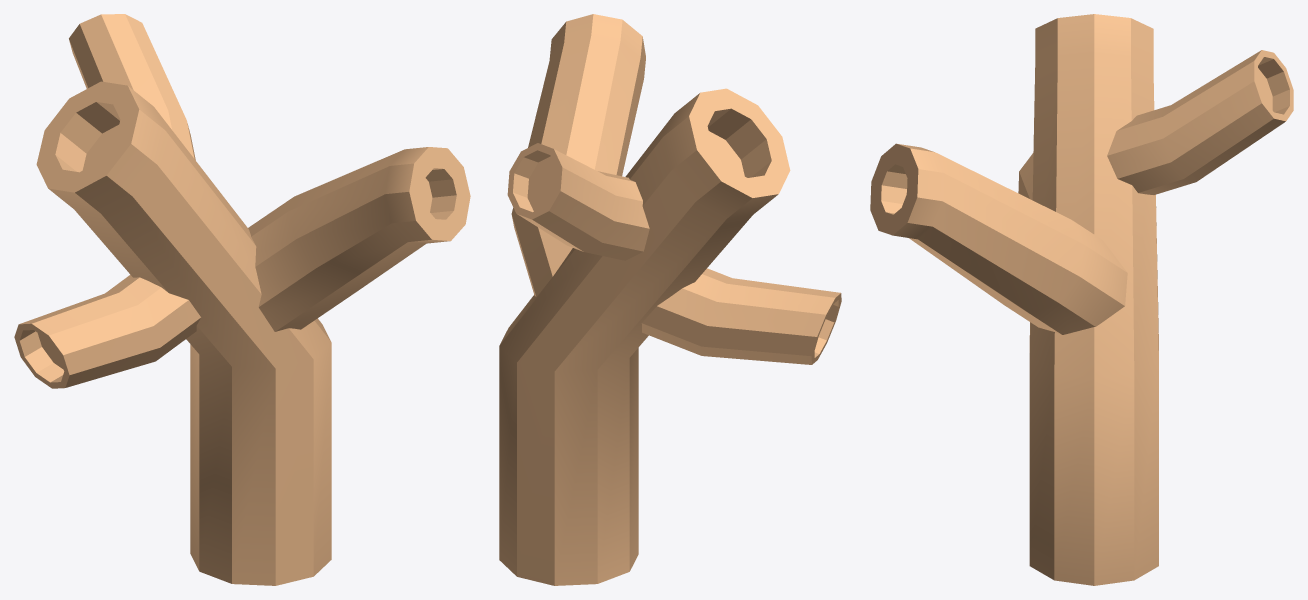
File: Coral kaki.fbx
The picture shows the model from 3 angles, left to right: view 1: azimuth 30°, elevation 25°; view 2: azimuth 150°, elevation 25°; view 3: azimuth 270°, elevation 25°; orthographic projection. The views are drawn at different scales.
Visible parts, largest first — view 1: Coral_kaki; view 2: Coral_kaki; view 3: Coral_kaki.
Part boxes in pixels (x1,y1,x2,y2): Coral_kaki: (14,14,470,585); Coral_kaki: (499,14,841,585); Coral_kaki: (870,14,1293,585).
Size of the model in its own units: 33.86 by 44.8 by 35.72.
